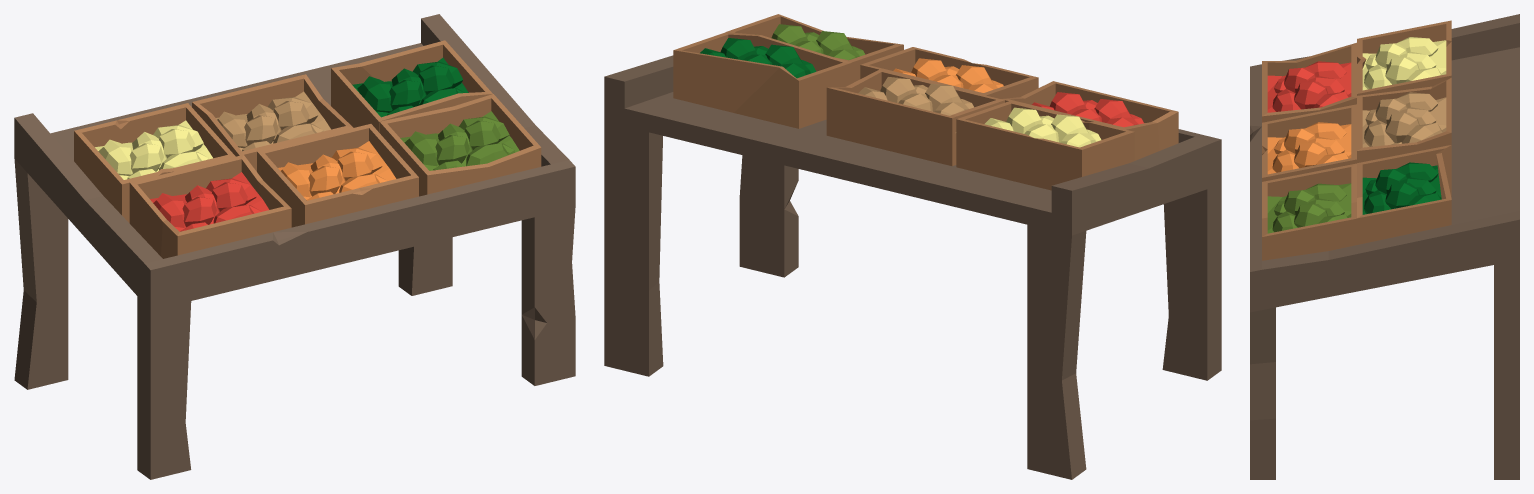
Rendered from Products_1.fbx.
3 renders of one model, left to right at view 1: azimuth 30°, elevation 25°; view 2: azimuth 150°, elevation 25°; view 3: azimuth 270°, elevation 25°, orthographic. The views are drawn at different scales.
Parts seen in each view (by area): view 1: Products_1; view 2: Products_1; view 3: Products_1.
Part boxes in pixels (x1,y1,x2,y2): Products_1: (14,14,575,479); Products_1: (604,14,1221,479); Products_1: (1250,14,1519,479).
Bounding box in the file's own units: 157 × 86.79 × 95.48.
